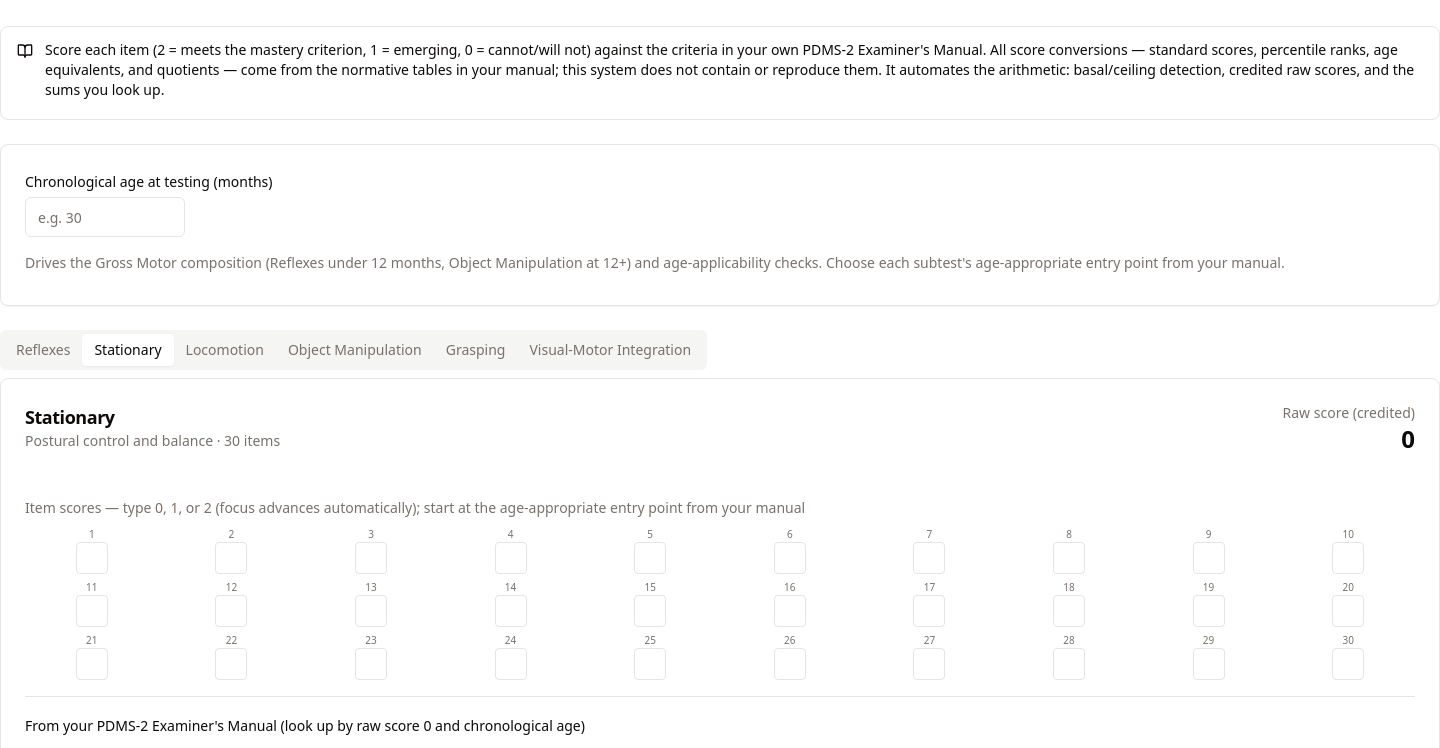
Scenario: PDMS-2 scoring workflow › drafts the narrative via the AI endpoint and places it in the editable field
In the field with test id "input-pdms2-age": coordinates (105, 217) left=25, top=197, right=185, bottom=237, type "30"
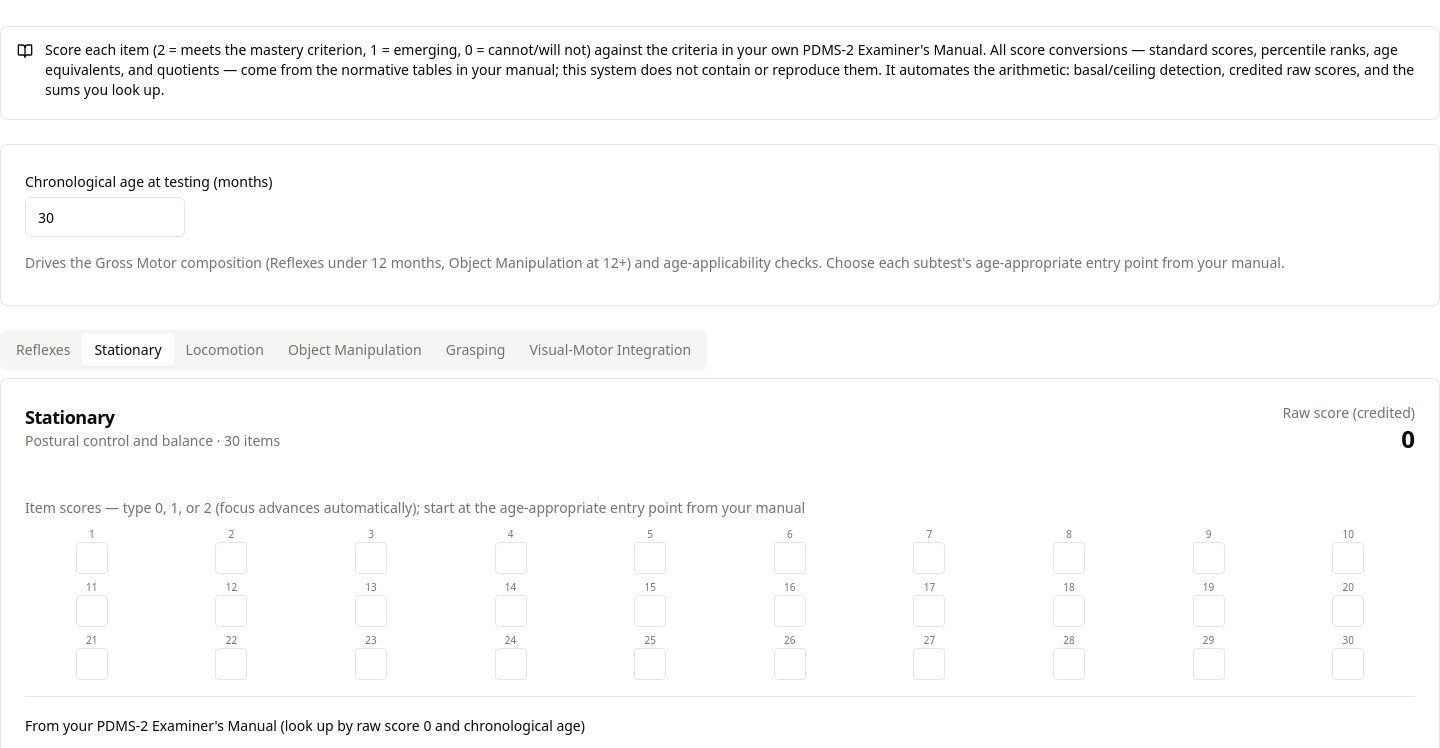
Press 2 in the field with test id "pdms2-item-stationary-5", box left=634, top=542, right=666, bottom=574
(page scrolled)
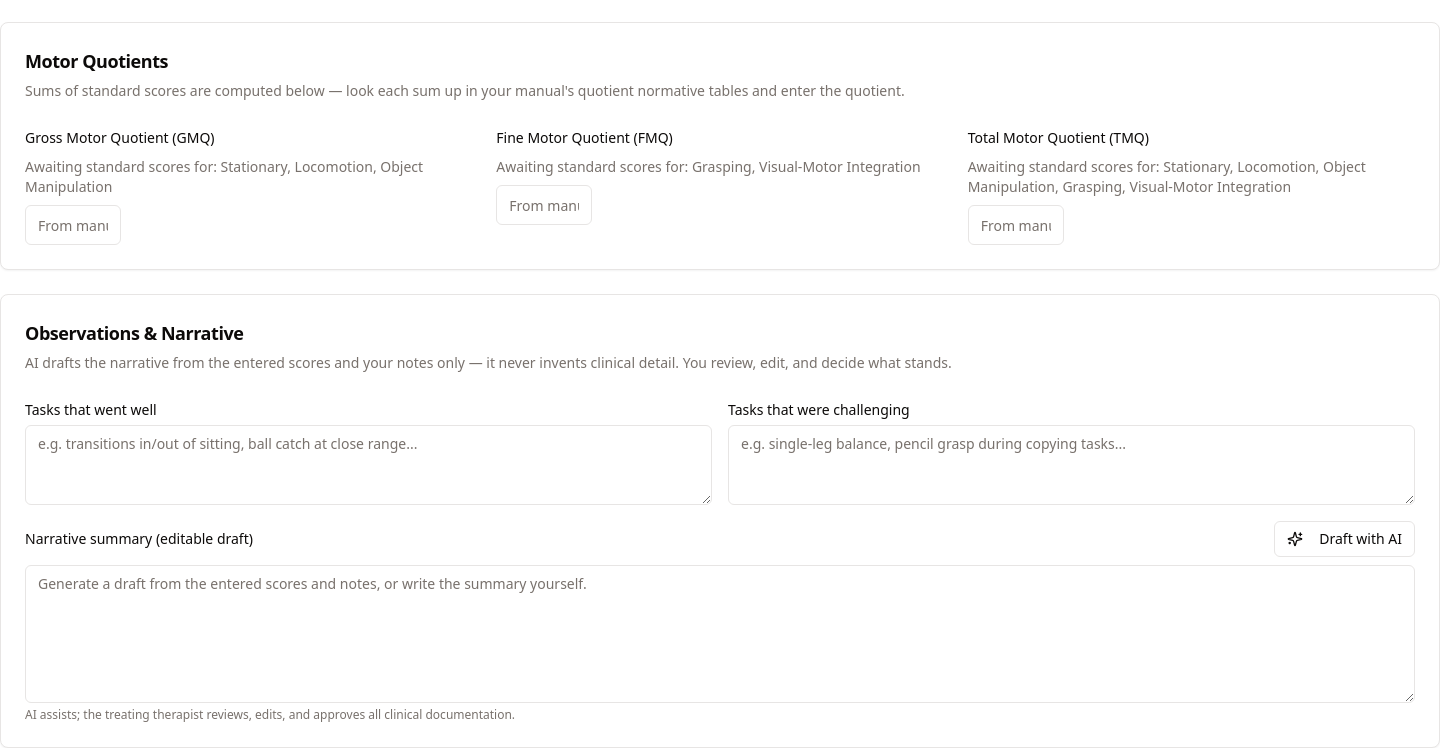
Click the button with test id "button-pdms2-generate-narrative": coordinates (1345, 539) left=1274, top=521, right=1415, bottom=557
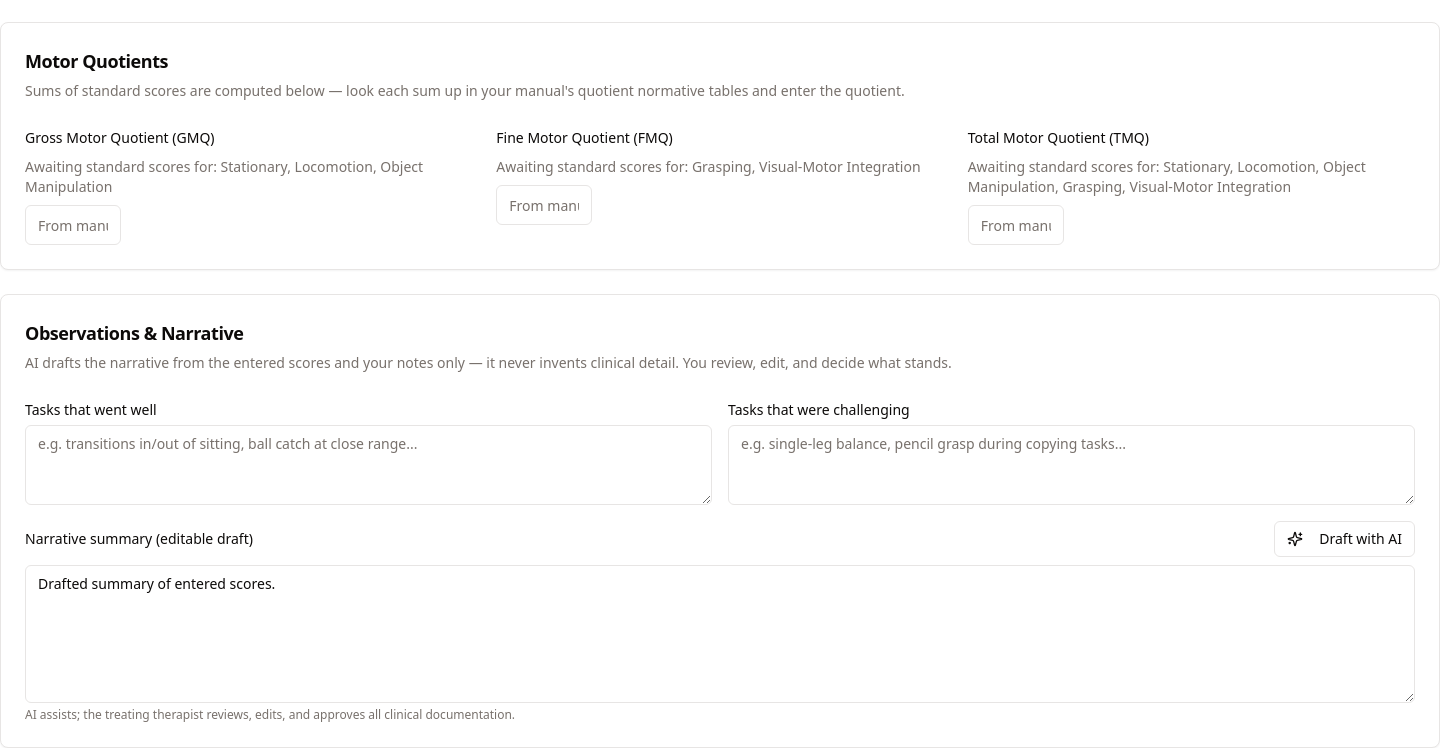
Check: the text box with test id "input-pdms2-narrative" holds "Drafted summary of entered scores.", box left=25, top=565, right=1415, bottom=703
